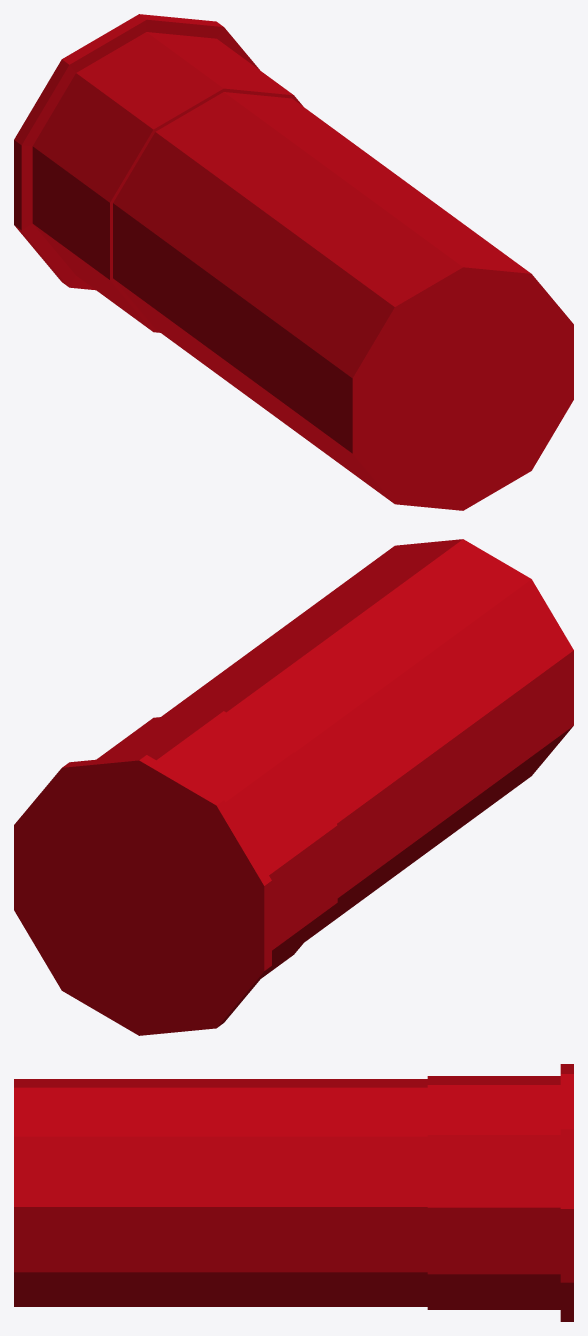
The model's file is ShotgunShellCasing.fbx.
3 views of the same model, one above another, from view 1: azimuth 30°, elevation 25°; view 2: azimuth 150°, elevation 25°; view 3: azimuth 270°, elevation 25° (orthographic). The views are drawn at different scales.
Visible parts, largest first — view 1: ShotgunShell; view 2: ShotgunShell; view 3: ShotgunShell.
Boxes of the visible parts, box(x1,y1,x2,y2) form: ShotgunShell: box(14, 14, 573, 510); ShotgunShell: box(14, 539, 573, 1035); ShotgunShell: box(14, 1064, 573, 1321).
Bounding box in the file's own units: 0.0166 × 0.0175 × 0.0373.
